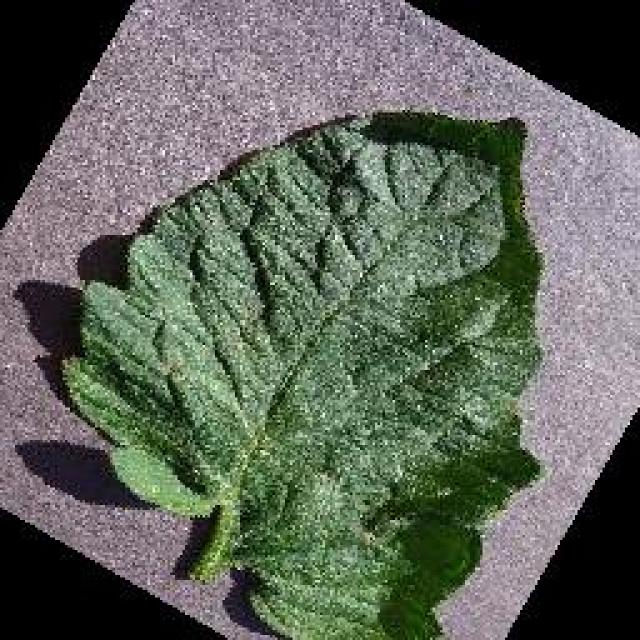Tomato___Target_Spot: (62, 112, 540, 638)
